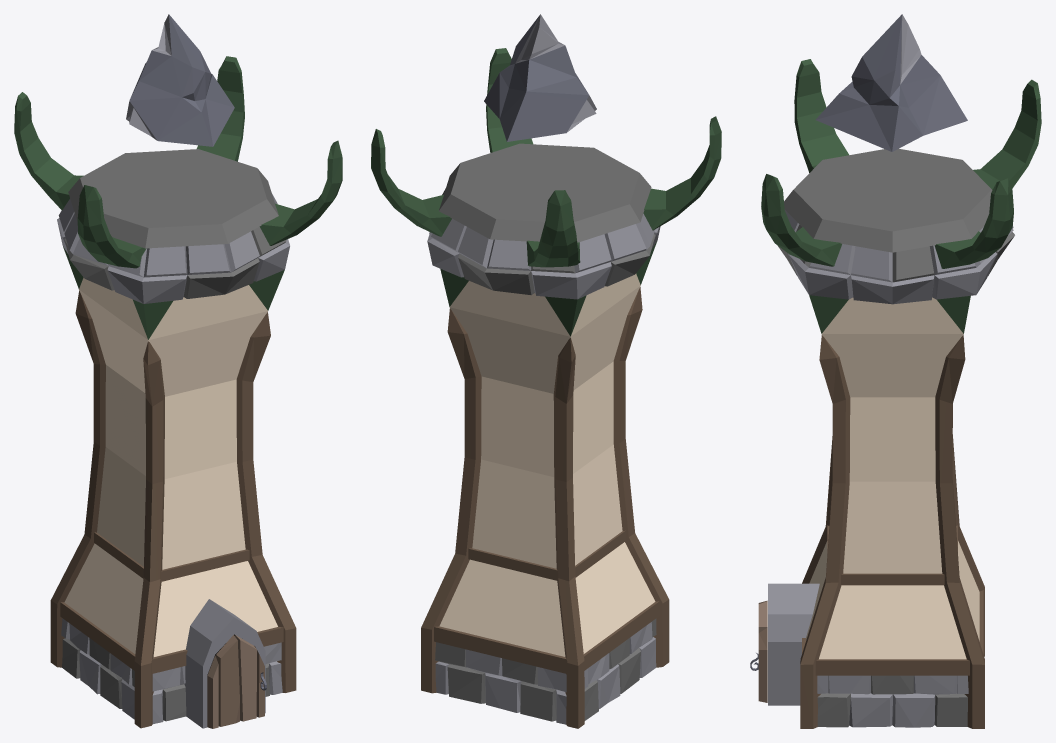
File: Poison_Tower_lv1.gltf
3 renders of one model, left to right at view 1: azimuth 30°, elevation 25°; view 2: azimuth 150°, elevation 25°; view 3: azimuth 270°, elevation 25°, orthographic. The views are drawn at different scales.
Parts seen in each view (by area): view 1: Poison_Tower_LVL_1_Body, Poison_Tower_LVL_1_Head; view 2: Poison_Tower_LVL_1_Body, Poison_Tower_LVL_1_Head; view 3: Poison_Tower_LVL_1_Body, Poison_Tower_LVL_1_Head.
Boxes of the visible parts, x1=… form: Poison_Tower_LVL_1_Body: x1=14, y1=56, x2=342, y2=728; Poison_Tower_LVL_1_Head: x1=126, y1=14, x2=234, y2=146; Poison_Tower_LVL_1_Body: x1=371, y1=48, x2=721, y2=728; Poison_Tower_LVL_1_Head: x1=484, y1=14, x2=596, y2=141; Poison_Tower_LVL_1_Body: x1=750, y1=59, x2=1041, y2=728; Poison_Tower_LVL_1_Head: x1=815, y1=14, x2=967, y2=151.
Size of the model in its own units: 3.05 by 7.65 by 2.99.
2 materials, 2 textured.
